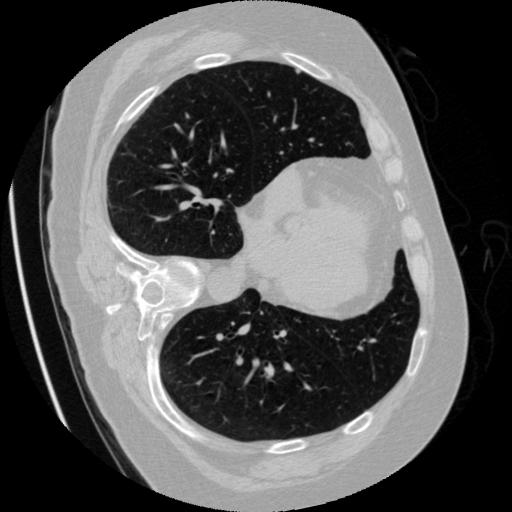nodule: (292, 65, 304, 77)
